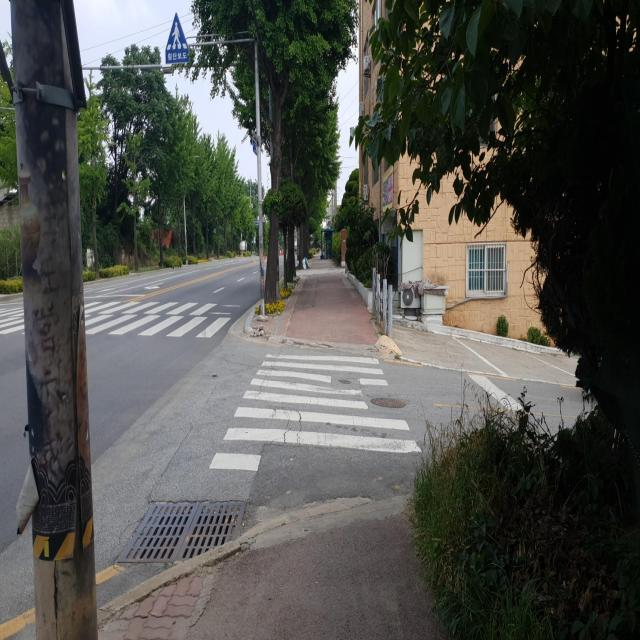횡단보도: (208, 352, 423, 474), (0, 288, 232, 336)
